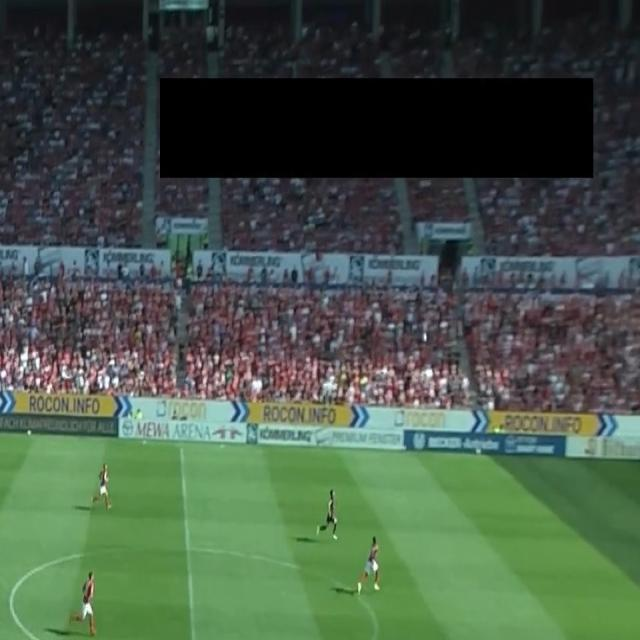ball: (421, 332, 427, 342)
